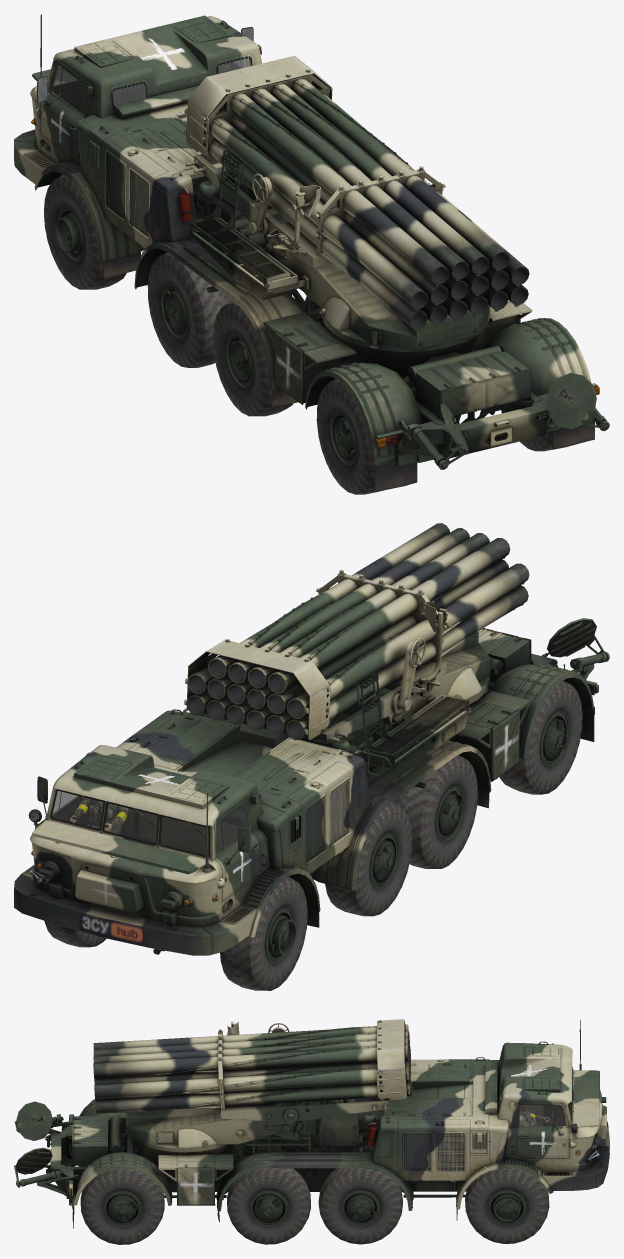
Rendered from ukrainian_bm-27_uragan.glb.
The picture shows the model from 3 angles, top to bottom: view 1: azimuth 30°, elevation 25°; view 2: azimuth 150°, elevation 25°; view 3: azimuth 270°, elevation 25°; orthographic projection. The views are drawn at different scales.
Parts seen in each view (by area): view 1: Object_2, Object_3, Object_5; view 2: Object_2, Object_5, Object_3, Object_4; view 3: Object_2, Object_3, Object_5, Object_4.
Part boxes in pixels (left/top/right/bottom): Object_2: left=14, top=14, right=609, bottom=494; Object_3: left=106, top=55, right=252, bottom=237; Object_5: left=38, top=28, right=253, bottom=115; Object_2: left=14, top=523, right=609, bottom=990; Object_5: left=51, top=791, right=248, bottom=855; Object_3: left=306, top=778, right=349, bottom=863; Object_4: left=70, top=798, right=128, bottom=833; Object_2: left=14, top=1019, right=609, bottom=1244; Object_3: left=403, top=1051, right=501, bottom=1171; Object_5: left=499, top=1056, right=571, bottom=1126; Object_4: left=519, top=1105, right=551, bottom=1125.
Size of the model in its own units: 3.08 by 3.26 by 9.95.
Materials: 4 (4 with a texture image).
